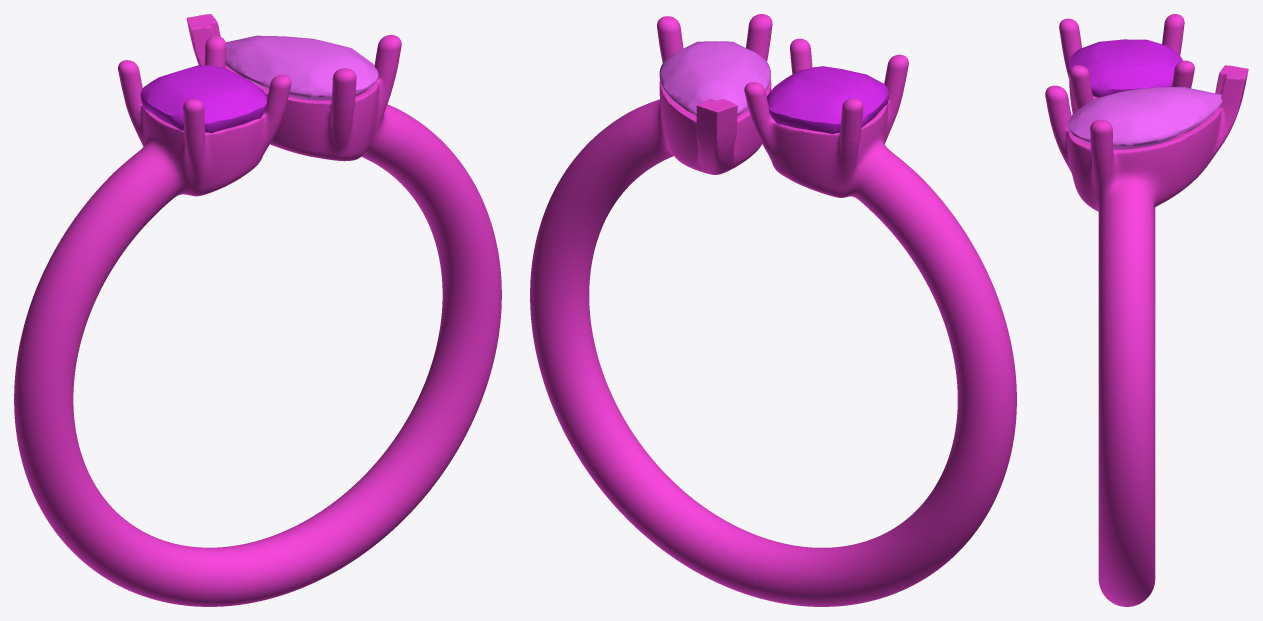
3 views of the same model, side by side, from view 1: azimuth 30°, elevation 25°; view 2: azimuth 150°, elevation 25°; view 3: azimuth 270°, elevation 25° (orthographic). The views are drawn at different scales.
Visible parts, largest first — view 1: split_parent_0, Object_5.521, Object_5.524; view 2: split_parent_0, Object_5.521, Object_5.524; view 3: split_parent_0, Object_5.521, Object_5.524.
Part boxes in pixels (left/top/right/bottom): split_parent_0: left=14, top=14, right=501, bottom=606; Object_5.521: left=225, top=35, right=378, bottom=100; Object_5.524: left=140, top=65, right=267, bottom=133; split_parent_0: left=530, top=14, right=1016, bottom=606; Object_5.521: left=659, top=41, right=770, bottom=114; Object_5.524: left=767, top=66, right=888, bottom=133; split_parent_0: left=1045, top=14, right=1248, bottom=606; Object_5.521: left=1068, top=86, right=1222, bottom=149; Object_5.524: left=1069, top=39, right=1182, bottom=97.
Size of the model in its own units: 0.9236 by 1 by 0.356.
